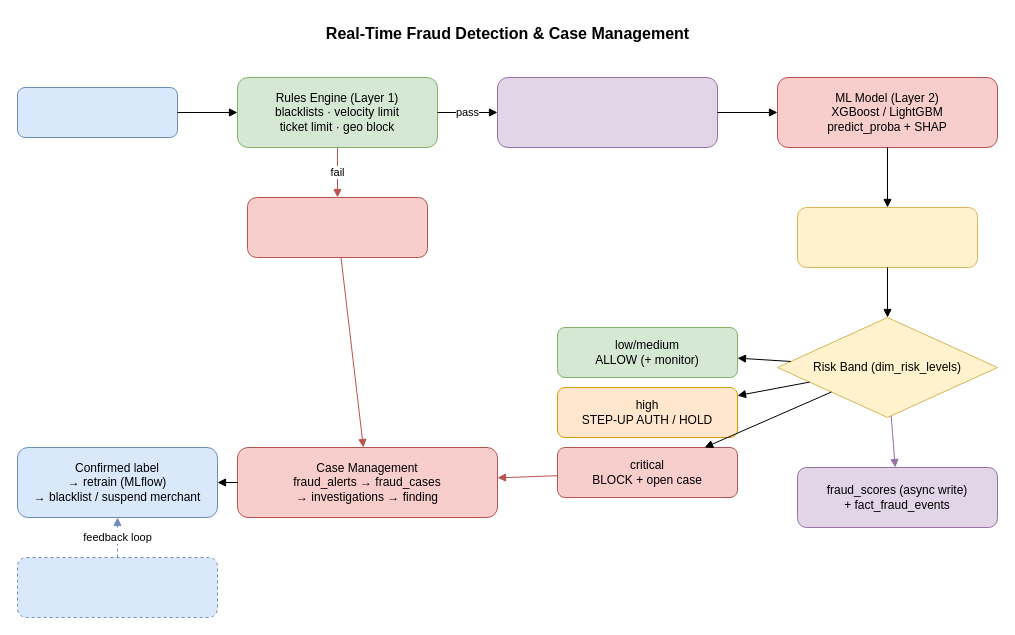
This 1015x635 diagram has some shape labels left out. The centre of each missing label's shape, as x and y in pixels:
Chargeback (weeks later) reason=fraud → delayed label: the point at 117,587
Fraud Score 0–1 + reason codes: the point at 887,237
HARD BLOCK + open fraud_alert: the point at 337,227
Online Feature Store (ClickHouse agg_velocity_5m, mv_fraud_features): the point at 607,112
transaction_event: the point at 97,112
